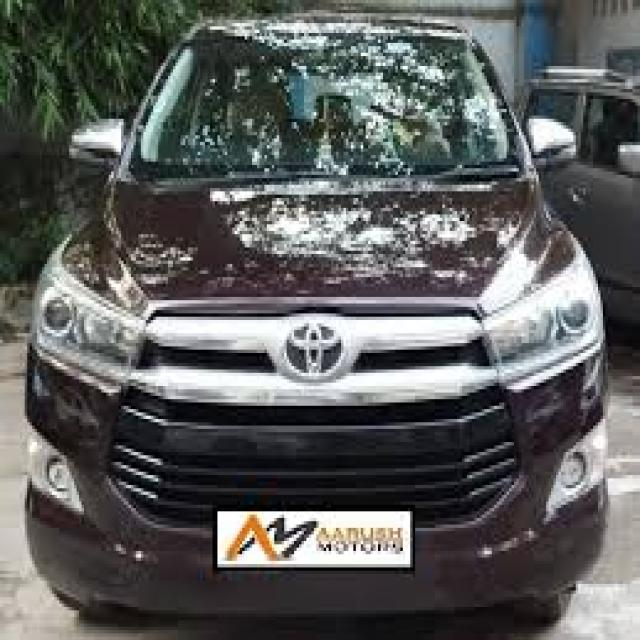light_vehicle: (26, 12, 610, 618)
